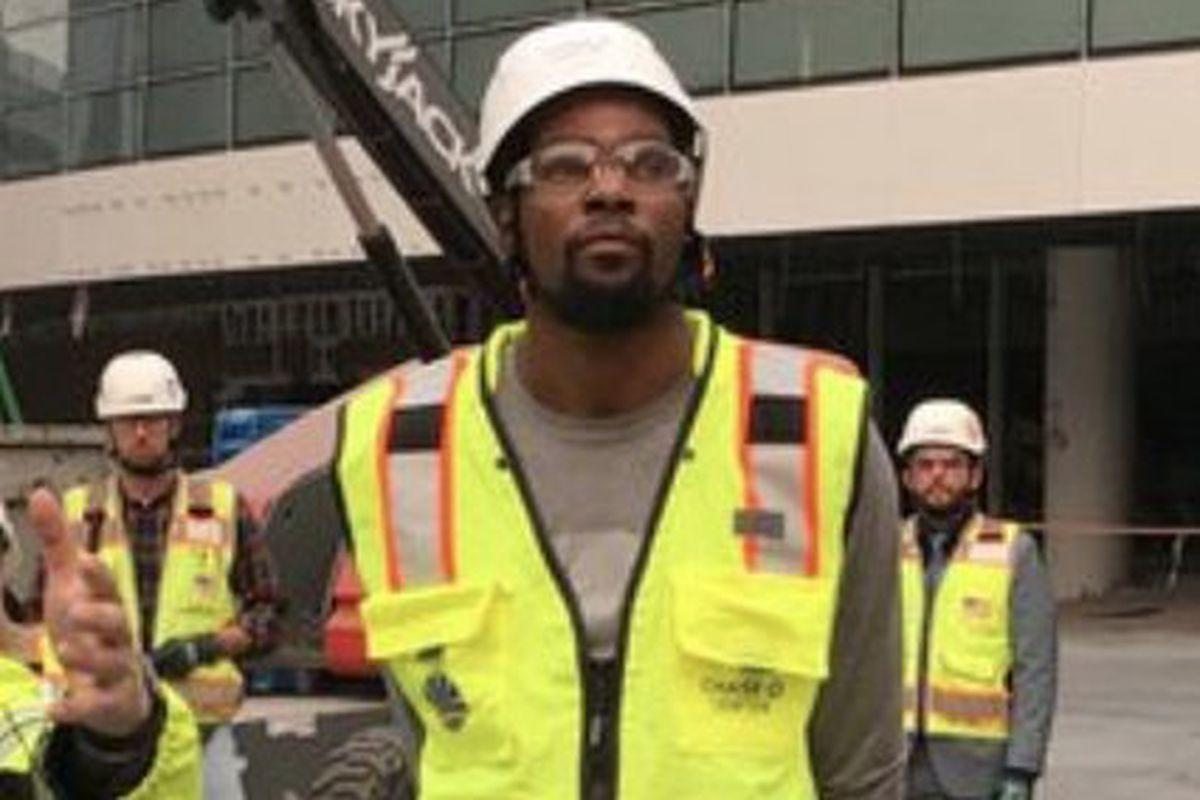helmet: (475, 16, 713, 191), (90, 351, 190, 425), (895, 395, 988, 463)
